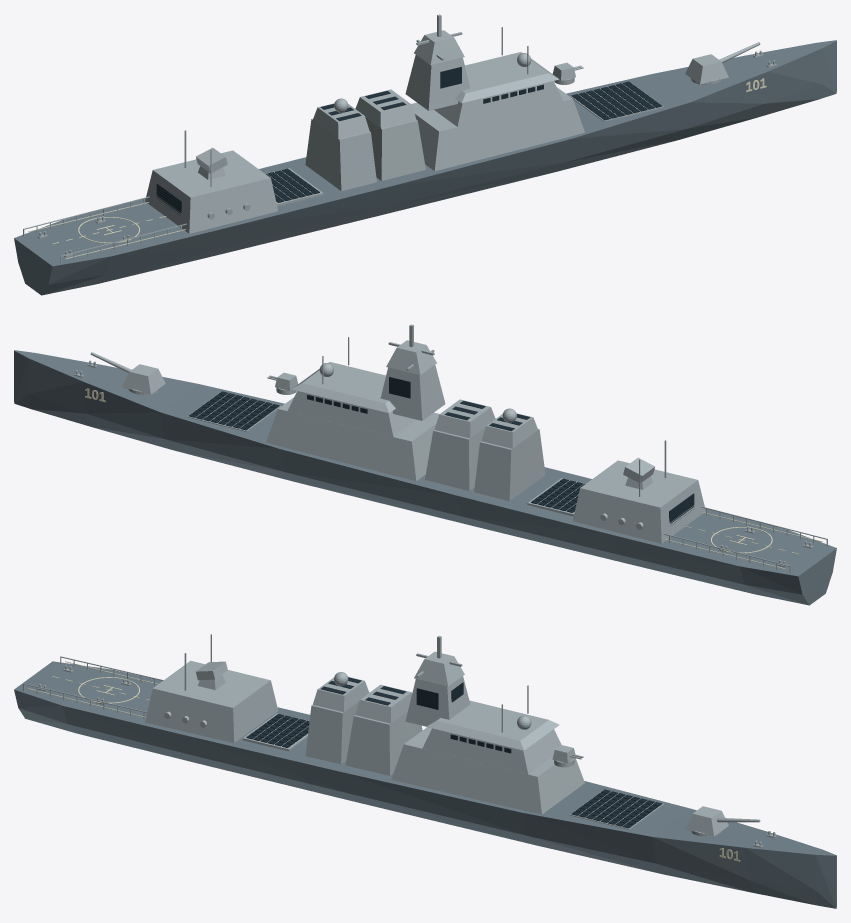
The model's file is type055.obj.
3 renders of one model, top to bottom at view 1: azimuth 30°, elevation 25°; view 2: azimuth 150°, elevation 25°; view 3: azimuth 330°, elevation 25°, orthographic.
Visible parts, largest first — view 1: hull, fittings, dark, markings; view 2: hull, fittings, dark, markings; view 3: hull, fittings, dark, markings.
Boxes of the visible parts, x1,y1,x2,y2 form: hull: [14, 40, 836, 295]; fittings: [23, 14, 776, 263]; dark: [156, 67, 662, 215]; markings: [28, 78, 766, 259]; hull: [14, 350, 836, 605]; fittings: [74, 324, 827, 573]; dark: [189, 377, 694, 525]; markings: [85, 388, 822, 569]; hull: [14, 661, 836, 908]; fittings: [23, 634, 776, 847]; dark: [246, 677, 662, 828]; markings: [28, 661, 740, 861].
Size of the model in its own units: 180 by 37.5 by 20.
